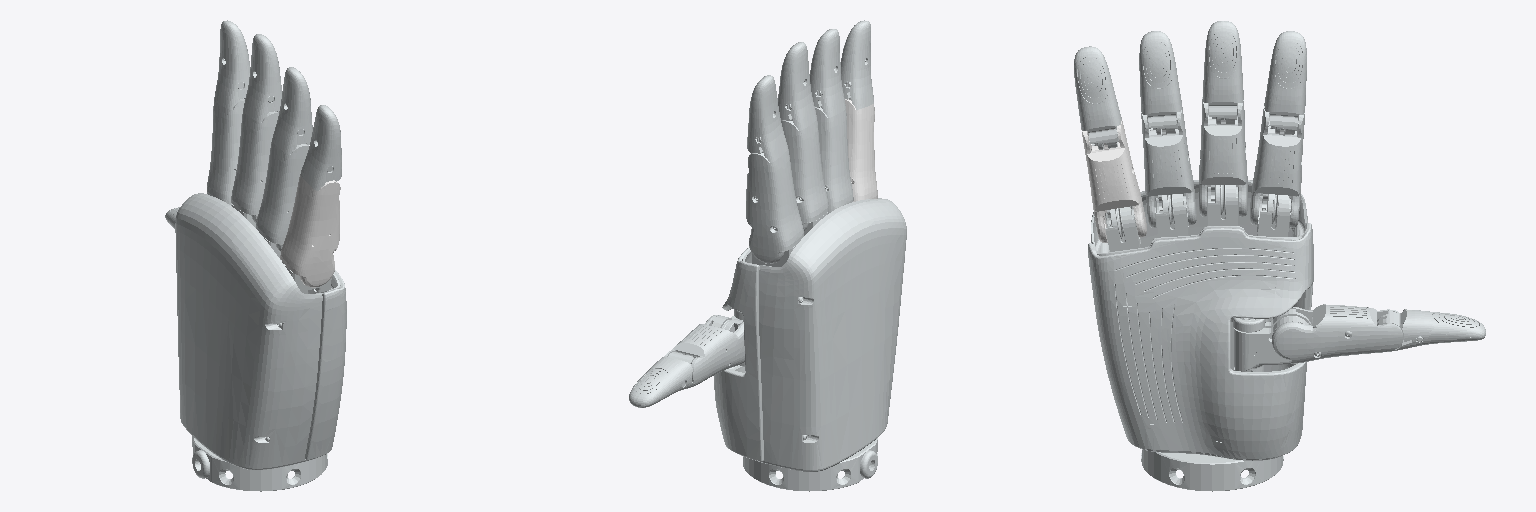
URDF robot description (LZ-SG002-URDF-R.SLDASM):
<?xml version="1.0" encoding="utf-8"?>
<!-- This URDF was automatically created by SolidWorks to URDF Exporter! Originally created by Stephen Brawner (brawner@gmail.com) 
     Commit Version: 1.6.0-4-g7f85cfe  Build Version: 1.6.7995.38578
     For more information, please see http://wiki.ros.org/sw_urdf_exporter -->
<robot
  name="LZ-SG002-URDF-R.SLDASM">
  <link
    name="hand_r_base_link">
    <inertial>
      <origin
        xyz="0.00055355 -0.0032336 0.072293"
        rpy="0 0 0" />
      <mass
        value="0.981" />
      <inertia
        ixx="0.00029283"
        ixy="-3.2349E-06"
        ixz="4.0206E-06"
        iyy="0.00017245"
        iyz="5.3438E-06"
        izz="0.00017748" />
    </inertial>
    <visual>
      <origin
        xyz="0 0 0"
        rpy="0 0 0" />
      <geometry>
        <mesh
          filename="package://LZ-SG002-URDF-R.SLDASM/meshes/hand_r_base_link.STL" />
      </geometry>
      <material
        name="">
        <color
          rgba="0.89804 0.92157 0.92941 1" />
      </material>
    </visual>
    <collision>
      <origin
        xyz="0 0 0"
        rpy="0 0 0" />
      <geometry>
        <mesh
          filename="package://LZ-SG002-URDF-R.SLDASM/meshes/hand_r_base_link.STL" />
      </geometry>
    </collision>
  </link>
  <link
    name="hand_r_thumb_Link1">
    <inertial>
      <origin
        xyz="0.00029432 -0.011119 0.0077731"
        rpy="0 0 0" />
      <mass
        value="0.025" />
      <inertia
        ixx="2.5029E-06"
        ixy="5.0548E-08"
        ixz="3.409E-08"
        iyy="1.1923E-06"
        iyz="-4.0451E-07"
        izz="1.8927E-06" />
    </inertial>
    <visual>
      <origin
        xyz="0 0 0"
        rpy="0 0 0" />
      <geometry>
        <mesh
          filename="package://LZ-SG002-URDF-R.SLDASM/meshes/hand_r_thumb_Link1.STL" />
      </geometry>
      <material
        name="">
        <color
          rgba="0.89804 0.92157 0.92941 1" />
      </material>
    </visual>
    <collision>
      <origin
        xyz="0 0 0"
        rpy="0 0 0" />
      <geometry>
        <mesh
          filename="package://LZ-SG002-URDF-R.SLDASM/meshes/hand_r_thumb_Link1.STL" />
      </geometry>
    </collision>
  </link>
  <joint
    name="hand_r_thumb_joint1"
    type="revolute">
    <origin
      xyz="0.023754 0.017 0.074512"
      rpy="3.1416 0 0" />
    <parent
      link="hand_r_base_link" />
    <child
      link="hand_r_thumb_Link1" />
    <axis
      xyz="0 0 1" />
    <limit
      lower="0"
      upper="2.0944"
      effort="0"
      velocity="0" />
  </joint>
  <link
    name="hand_r_thumb_Link2">
    <inertial>
      <origin
        xyz="0.020113 0.00071363 -0.00021032"
        rpy="0 0 0" />
      <mass
        value="0.026" />
      <inertia
        ixx="1.1561E-06"
        ixy="-2.203E-07"
        ixz="-9.4353E-08"
        iyy="5.5071E-06"
        iyz="-1.4729E-07"
        izz="5.736E-06" />
    </inertial>
    <visual>
      <origin
        xyz="0 0 0"
        rpy="0 0 0" />
      <geometry>
        <mesh
          filename="package://LZ-SG002-URDF-R.SLDASM/meshes/hand_r_thumb_Link2.STL" />
      </geometry>
      <material
        name="">
        <color
          rgba="0.89804 0.92157 0.92941 1" />
      </material>
    </visual>
    <collision>
      <origin
        xyz="0 0 0"
        rpy="0 0 0" />
      <geometry>
        <mesh
          filename="package://LZ-SG002-URDF-R.SLDASM/meshes/hand_r_thumb_Link2.STL" />
      </geometry>
    </collision>
  </link>
  <joint
    name="hand_r_thumb_joint2"
    type="revolute">
    <origin
      xyz="0 -0.02 0.0037555"
      rpy="-1.5708 0 -1.5708" />
    <parent
      link="hand_r_thumb_Link1" />
    <child
      link="hand_r_thumb_Link2" />
    <axis
      xyz="0 0 1" />
    <limit
      lower="0"
      upper="1.5708"
      effort="0"
      velocity="0" />
  </joint>
  <link
    name="hand_r_thumb_Link3">
    <inertial>
      <origin
        xyz="0.018051 -3.1119E-05 0.00022951"
        rpy="0 0 0" />
      <mass
        value="0.022" />
      <inertia
        ixx="4.597E-07"
        ixy="1.426E-07"
        ixz="3.3871E-08"
        iyy="2.1884E-06"
        iyz="-9.8712E-09"
        izz="1.9591E-06" />
    </inertial>
    <visual>
      <origin
        xyz="0 0 0"
        rpy="0 0 0" />
      <geometry>
        <mesh
          filename="package://LZ-SG002-URDF-R.SLDASM/meshes/hand_r_thumb_Link3.STL" />
      </geometry>
      <material
        name="">
        <color
          rgba="0.89804 0.92157 0.92941 1" />
      </material>
    </visual>
    <collision>
      <origin
        xyz="0 0 0"
        rpy="0 0 0" />
      <geometry>
        <mesh
          filename="package://LZ-SG002-URDF-R.SLDASM/meshes/hand_r_thumb_Link3.STL" />
      </geometry>
    </collision>
  </link>
  <joint
    name="hand_r_thumb_Link3"
    type="revolute">
    <origin
      xyz="0.045 0.002 -0.00020013"
      rpy="0 0 0" />
    <parent
      link="hand_r_thumb_Link2" />
    <child
      link="hand_r_thumb_Link3" />
    <axis
      xyz="0 0 1" />
    <limit
      lower="0"
      upper="1.5708"
      effort="0"
      velocity="0" />
  </joint>
  <link
    name="hand_r_index_Link1">
    <inertial>
      <origin
        xyz="-0.00071284 0.020037 0.0017372"
        rpy="0 0 0" />
      <mass
        value="0.026" />
      <inertia
        ixx="5.5075E-06"
        ixy="2.0679E-07"
        ixz="1.6598E-07"
        iyy="1.2074E-06"
        iyz="-4.9066E-07"
        izz="5.6853E-06" />
    </inertial>
    <visual>
      <origin
        xyz="0 0 0"
        rpy="0 0 0" />
      <geometry>
        <mesh
          filename="package://LZ-SG002-URDF-R.SLDASM/meshes/hand_r_index_Link1.STL" />
      </geometry>
      <material
        name="">
        <color
          rgba="0.89804 0.92157 0.92941 1" />
      </material>
    </visual>
    <collision>
      <origin
        xyz="0 0 0"
        rpy="0 0 0" />
      <geometry>
        <mesh
          filename="package://LZ-SG002-URDF-R.SLDASM/meshes/hand_r_index_Link1.STL" />
      </geometry>
    </collision>
  </link>
  <joint
    name="hand_r_index_joint1"
    type="revolute">
    <origin
      xyz="0.0022543 0.029 0.12576"
      rpy="1.5708 0 3.1416" />
    <parent
      link="hand_r_base_link" />
    <child
      link="hand_r_index_Link1" />
    <axis
      xyz="0 -0.087156 0.99619" />
    <limit
      lower="0"
      upper="1.5708"
      effort="0"
      velocity="0" />
  </joint>
  <link
    name="hand_r_index_Link2">
    <inertial>
      <origin
        xyz="2.9415E-05 0.016982 0.0017036"
        rpy="0 0 0" />
      <mass
        value="0.022" />
      <inertia
        ixx="2.1935E-06"
        ixy="-1.4291E-07"
        ixz="-2.5969E-09"
        iyy="4.7034E-07"
        iyz="-9.719E-08"
        izz="1.9628E-06" />
    </inertial>
    <visual>
      <origin
        xyz="0 0 0"
        rpy="0 0 0" />
      <geometry>
        <mesh
          filename="package://LZ-SG002-URDF-R.SLDASM/meshes/hand_r_index_Link2.STL" />
      </geometry>
      <material
        name="">
        <color
          rgba="0.89804 0.92157 0.92941 1" />
      </material>
    </visual>
    <collision>
      <origin
        xyz="0 0 0"
        rpy="0 0 0" />
      <geometry>
        <mesh
          filename="package://LZ-SG002-URDF-R.SLDASM/meshes/hand_r_index_Link2.STL" />
      </geometry>
    </collision>
  </link>
  <joint
    name="hand_r_index_joint"
    type="revolute">
    <origin
      xyz="-0.002 0.044829 0.003922"
      rpy="0 0 0" />
    <parent
      link="hand_r_index_Link1" />
    <child
      link="hand_r_index_Link2" />
    <axis
      xyz="0 -0.087156 0.99619" />
    <limit
      lower="0"
      upper="1.5708"
      effort="0"
      velocity="0" />
  </joint>
  <link
    name="hand_r_middle_Link1">
    <inertial>
      <origin
        xyz="-0.00071285 0.020112 -1.5749E-05"
        rpy="0 0 0" />
      <mass
        value="0.026" />
      <inertia
        ixx="5.5075E-06"
        ixy="2.2048E-07"
        ixz="1.4732E-07"
        iyy="1.1562E-06"
        iyz="-9.4418E-08"
        izz="5.7365E-06" />
    </inertial>
    <visual>
      <origin
        xyz="0 0 0"
        rpy="0 0 0" />
      <geometry>
        <mesh
          filename="package://LZ-SG002-URDF-R.SLDASM/meshes/hand_r_middle_Link1.STL" />
      </geometry>
      <material
        name="">
        <color
          rgba="0.89804 0.92157 0.92941 1" />
      </material>
    </visual>
    <collision>
      <origin
        xyz="0 0 0"
        rpy="0 0 0" />
      <geometry>
        <mesh
          filename="package://LZ-SG002-URDF-R.SLDASM/meshes/hand_r_middle_Link1.STL" />
      </geometry>
    </collision>
  </link>
  <joint
    name="hand_r_middle_joint1"
    type="revolute">
    <origin
      xyz="0.0022544 0.005 0.13076"
      rpy="1.5708 0 3.1416" />
    <parent
      link="hand_r_base_link" />
    <child
      link="hand_r_middle_Link1" />
    <axis
      xyz="0 0 1" />
    <limit
      lower="0"
      upper="1.5708"
      effort="0"
      velocity="0" />
  </joint>
  <link
    name="hand_r_middle_Link2">
    <inertial>
      <origin
        xyz="2.9422E-05 0.017066 0.00021703"
        rpy="0 0 0" />
      <mass
        value="0.022" />
      <inertia
        ixx="2.1935E-06"
        ixy="-1.426E-07"
        ixz="9.8701E-09"
        iyy="4.648E-07"
        iyz="3.3867E-08"
        izz="1.9683E-06" />
    </inertial>
    <visual>
      <origin
        xyz="0 0 0"
        rpy="0 0 0" />
      <geometry>
        <mesh
          filename="package://LZ-SG002-URDF-R.SLDASM/meshes/hand_r_middle_Link2.STL" />
      </geometry>
      <material
        name="">
        <color
          rgba="0.89804 0.92157 0.92941 1" />
      </material>
    </visual>
    <collision>
      <origin
        xyz="0 0 0"
        rpy="0 0 0" />
      <geometry>
        <mesh
          filename="package://LZ-SG002-URDF-R.SLDASM/meshes/hand_r_middle_Link2.STL" />
      </geometry>
    </collision>
  </link>
  <joint
    name="hand_r_middle_joint2"
    type="revolute">
    <origin
      xyz="-0.002 0.045 0"
      rpy="0 0 0" />
    <parent
      link="hand_r_middle_Link1" />
    <child
      link="hand_r_middle_Link2" />
    <axis
      xyz="0 0 1" />
    <limit
      lower="0"
      upper="1.5708"
      effort="0"
      velocity="0" />
  </joint>
  <link
    name="hand_r_ring_Link1">
    <inertial>
      <origin
        xyz="-0.00071285 0.020034 -0.0017685"
        rpy="0 0 0" />
      <mass
        value="0.026" />
      <inertia
        ixx="5.5075E-06"
        ixy="2.3248E-07"
        ixz="1.2754E-07"
        iyy="1.1746E-06"
        iyz="3.047E-07"
        izz="5.7181E-06" />
    </inertial>
    <visual>
      <origin
        xyz="0 0 0"
        rpy="0 0 0" />
      <geometry>
        <mesh
          filename="package://LZ-SG002-URDF-R.SLDASM/meshes/hand_r_ring_Link1.STL" />
      </geometry>
      <material
        name="">
        <color
          rgba="0.89804 0.92157 0.92941 1" />
      </material>
    </visual>
    <collision>
      <origin
        xyz="0 0 0"
        rpy="0 0 0" />
      <geometry>
        <mesh
          filename="package://LZ-SG002-URDF-R.SLDASM/meshes/hand_r_ring_Link1.STL" />
      </geometry>
    </collision>
  </link>
  <joint
    name="hand_r_ring_joint1"
    type="revolute">
    <origin
      xyz="0.0022545 -0.019 0.12576"
      rpy="1.5708 0 3.1416" />
    <parent
      link="hand_r_base_link" />
    <child
      link="hand_r_ring_Link1" />
    <axis
      xyz="0 0.087156 0.99619" />
    <limit
      lower="0"
      upper="1.5708"
      effort="0"
      velocity="0" />
  </joint>
  <link
    name="hand_r_ring_Link2">
    <inertial>
      <origin
        xyz="3.1125E-05 0.018002 -0.0013445"
        rpy="0 0 0" />
      <mass
        value="0.022" />
      <inertia
        ixx="2.1884E-06"
        ixy="-1.4119E-07"
        ixz="2.2262E-08"
        iyy="4.7697E-07"
        iyz="1.6354E-07"
        izz="1.9418E-06" />
    </inertial>
    <visual>
      <origin
        xyz="0 0 0"
        rpy="0 0 0" />
      <geometry>
        <mesh
          filename="package://LZ-SG002-URDF-R.SLDASM/meshes/hand_r_ring_Link2.STL" />
      </geometry>
      <material
        name="">
        <color
          rgba="0.89804 0.92157 0.92941 1" />
      </material>
    </visual>
    <collision>
      <origin
        xyz="0 0 0"
        rpy="0 0 0" />
      <geometry>
        <mesh
          filename="package://LZ-SG002-URDF-R.SLDASM/meshes/hand_r_ring_Link2.STL" />
      </geometry>
    </collision>
  </link>
  <joint
    name="hand_r_ring_joint2"
    type="revolute">
    <origin
      xyz="-0.002 0.044829 -0.003922"
      rpy="0 0 0" />
    <parent
      link="hand_r_ring_Link1" />
    <child
      link="hand_r_ring_Link2" />
    <axis
      xyz="0 0.087156 0.99619" />
    <limit
      lower="0"
      upper="1.5708"
      effort="0"
      velocity="0" />
  </joint>
  <link
    name="hand_r_pinky_Link1">
    <inertial>
      <origin
        xyz="0 0 0"
        rpy="0 0 0" />
      <mass
        value="0.026" />
      <inertia
        ixx="0"
        ixy="0"
        ixz="0"
        iyy="0"
        iyz="0"
        izz="0" />
    </inertial>
    <visual>
      <origin
        xyz="0 0 0"
        rpy="0 0 0" />
      <geometry>
        <mesh
          filename="package://LZ-SG002-URDF-R.SLDASM/meshes/hand_r_pinky_Link1.STL" />
      </geometry>
      <material
        name="">
        <color
          rgba="1 1 1 1" />
      </material>
    </visual>
    <collision>
      <origin
        xyz="0 0 0"
        rpy="0 0 0" />
      <geometry>
        <mesh
          filename="package://LZ-SG002-URDF-R.SLDASM/meshes/hand_r_pinky_Link1.STL" />
      </geometry>
    </collision>
  </link>
  <joint
    name="hand_r_pinky_joint1"
    type="revolute">
    <origin
      xyz="0.0022545 -0.042072 0.11883"
      rpy="1.5708 0 3.1416" />
    <parent
      link="hand_r_base_link" />
    <child
      link="hand_r_pinky_Link1" />
    <axis
      xyz="0 0.17365 0.98481" />
    <limit
      lower="0"
      upper="1.5708"
      effort="0"
      velocity="0" />
  </joint>
  <link
    name="hand_r_pinky_Link2">
    <inertial>
      <origin
        xyz="2.942E-05 0.016844 -0.0027497"
        rpy="0 0 0" />
      <mass
        value="0.022" />
      <inertia
        ixx="2.1935E-06"
        ixy="-1.3872E-07"
        ixz="3.4483E-08"
        iyy="5.2172E-07"
        iyz="2.8893E-07"
        izz="1.9114E-06" />
    </inertial>
    <visual>
      <origin
        xyz="0 0 0"
        rpy="0 0 0" />
      <geometry>
        <mesh
          filename="package://LZ-SG002-URDF-R.SLDASM/meshes/hand_r_pinky_Link2.STL" />
      </geometry>
      <material
        name="">
        <color
          rgba="0.89804 0.92157 0.92941 1" />
      </material>
    </visual>
    <collision>
      <origin
        xyz="0 0 0"
        rpy="0 0 0" />
      <geometry>
        <mesh
          filename="package://LZ-SG002-URDF-R.SLDASM/meshes/hand_r_pinky_Link2.STL" />
      </geometry>
    </collision>
  </link>
  <joint
    name="hand_r_pinky_joint2"
    type="revolute">
    <origin
      xyz="-0.002 0.044241 -0.0082418"
      rpy="0 0 0" />
    <parent
      link="hand_r_pinky_Link1" />
    <child
      link="hand_r_pinky_Link2" />
    <axis
      xyz="0 0.17365 0.98481" />
    <limit
      lower="0"
      upper="1.5708"
      effort="0"
      velocity="0" />
  </joint>
</robot>

--- What the picture shows (computed from the rendered views, not written in the file) ---
The picture shows the robot from 3 angles, left to right: view 1: azimuth 30°, elevation 25°; view 2: azimuth 150°, elevation 25°; view 3: azimuth 270°, elevation 25°; orthographic projection.
Robot: LZ-SG002-URDF-R.SLDASM — 12 links, 11 joints (11 revolute); root link hand_r_base_link; default pose: all joints at 0.
Links seen in each view (by area): view 1: hand_r_base_link, hand_r_pinky_Link1, hand_r_ring_Link1, hand_r_middle_Link1, hand_r_index_Link1, hand_r_ring_Link2, hand_r_middle_Link2, hand_r_pinky_Link2, hand_r_index_Link2; view 2: hand_r_base_link, hand_r_index_Link1, hand_r_middle_Link1, hand_r_thumb_Link2, hand_r_ring_Link1, hand_r_pinky_Link1, hand_r_index_Link2, hand_r_middle_Link2, hand_r_ring_Link2, hand_r_pinky_Link2, hand_r_thumb_Link3; view 3: hand_r_base_link, hand_r_thumb_Link2, hand_r_pinky_Link1, hand_r_ring_Link1, hand_r_index_Link1, hand_r_middle_Link1, hand_r_pinky_Link2, hand_r_index_Link2, hand_r_ring_Link2, hand_r_middle_Link2, hand_r_thumb_Link3, hand_r_thumb_Link1.
Link boxes in pixels (<box>): hand_r_base_link: <box>175,193,346,491</box>; hand_r_pinky_Link1: <box>280,175,340,287</box>; hand_r_ring_Link1: <box>256,142,308,252</box>; hand_r_middle_Link1: <box>231,111,278,222</box>; hand_r_index_Link1: <box>207,98,244,205</box>; hand_r_ring_Link2: <box>272,67,312,154</box>; hand_r_middle_Link2: <box>243,34,281,122</box>; hand_r_pinky_Link2: <box>300,105,341,190</box>; hand_r_index_Link2: <box>214,20,249,109</box>; hand_r_base_link: <box>714,198,906,491</box>; hand_r_index_Link1: <box>746,149,803,263</box>; hand_r_middle_Link1: <box>781,120,828,230</box>; hand_r_thumb_Link2: <box>664,315,744,385</box>; hand_r_ring_Link1: <box>815,107,853,213</box>; hand_r_pinky_Link1: <box>845,99,877,201</box>; hand_r_index_Link2: <box>747,75,787,162</box>; hand_r_middle_Link2: <box>778,42,816,130</box>; hand_r_ring_Link2: <box>810,29,845,117</box>; hand_r_pinky_Link2: <box>841,20,873,109</box>; hand_r_thumb_Link3: <box>629,352,694,407</box>; hand_r_base_link: <box>1088,180,1313,491</box>; hand_r_thumb_Link2: <box>1272,304,1402,363</box>; hand_r_pinky_Link1: <box>1081,121,1146,242</box>; hand_r_ring_Link1: <box>1141,107,1196,227</box>; hand_r_index_Link1: <box>1250,106,1304,227</box>; hand_r_middle_Link1: <box>1198,97,1247,216</box>; hand_r_pinky_Link2: <box>1074,46,1121,149</box>; hand_r_index_Link2: <box>1264,31,1306,134</box>; hand_r_ring_Link2: <box>1139,31,1181,134</box>; hand_r_middle_Link2: <box>1203,21,1243,124</box>; hand_r_thumb_Link3: <box>1377,309,1485,350</box>; hand_r_thumb_Link1: <box>1234,309,1311,371</box>.
Size in the robot's own frame: 0.0732 by 0.1911 by 0.2269 metres.
12 mesh visuals loaded from 12 distinct referenced files (12 binary STL).
